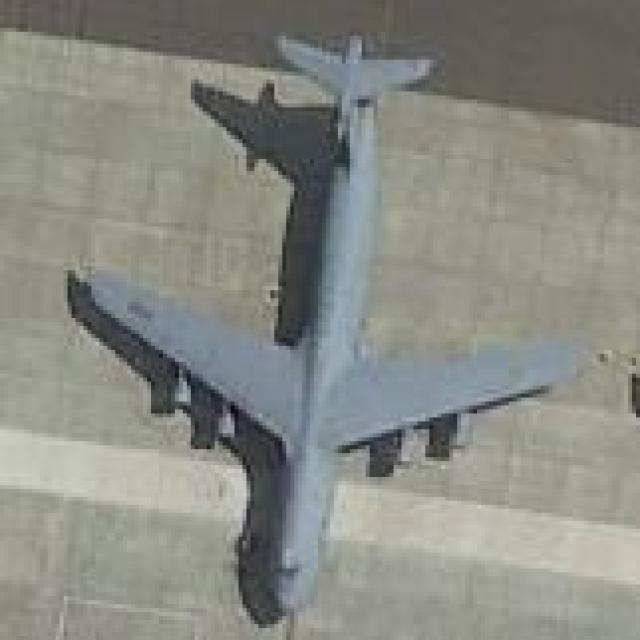C-5_TopDown: (62, 33, 583, 625)
